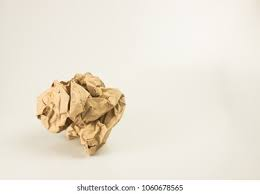crumpled paper: (37, 75, 127, 153)
